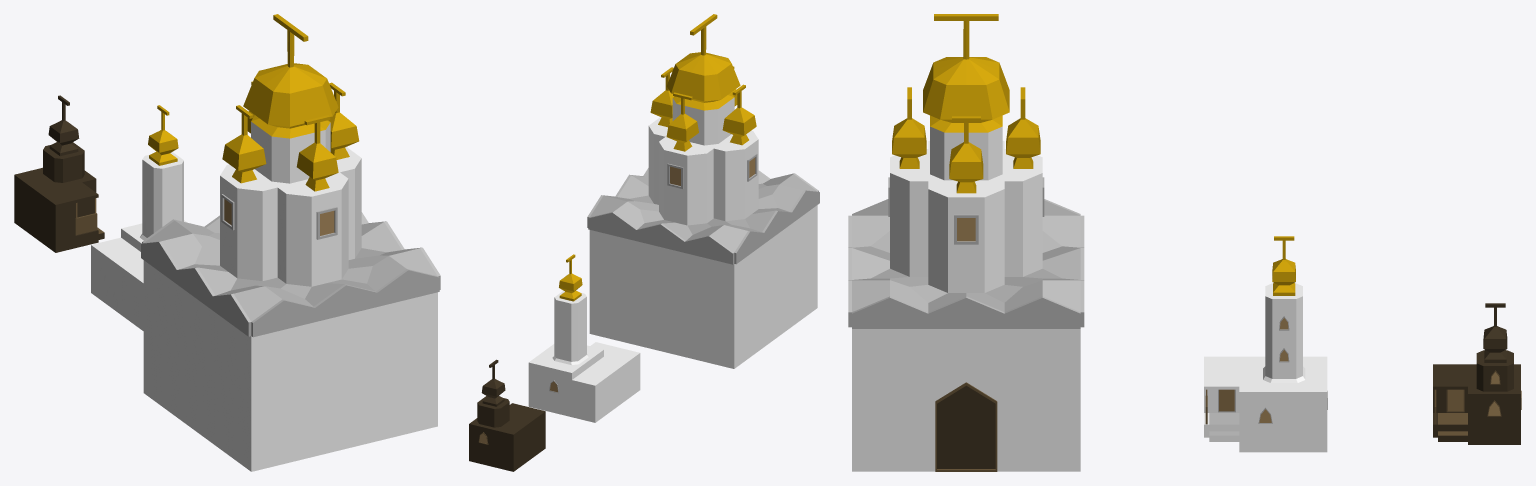
Rendered from Churchs.fbx.
3 views of the same model, side by side, from view 1: azimuth 30°, elevation 25°; view 2: azimuth 150°, elevation 25°; view 3: azimuth 270°, elevation 25° (orthographic). The views are drawn at different scales.
Visible parts, largest first — view 1: Church LVL3, Church LVL2, Church LVL1; view 2: Church LVL3, Church LVL2, Church LVL1; view 3: Church LVL3, Church LVL2, Church LVL1.
Boxes of the visible parts, box(x1,y1,x2,y2) form: Church LVL3: box(141, 14, 440, 471); Church LVL2: box(91, 105, 186, 330); Church LVL1: box(14, 95, 104, 252); Church LVL3: box(587, 14, 819, 368); Church LVL2: box(528, 254, 640, 422); Church LVL1: box(469, 359, 545, 471); Church LVL3: box(848, 14, 1084, 471); Church LVL2: box(1204, 236, 1327, 452); Church LVL1: box(1433, 303, 1521, 444).
Size of the model in its own units: 1340 by 2559 by 3824.
